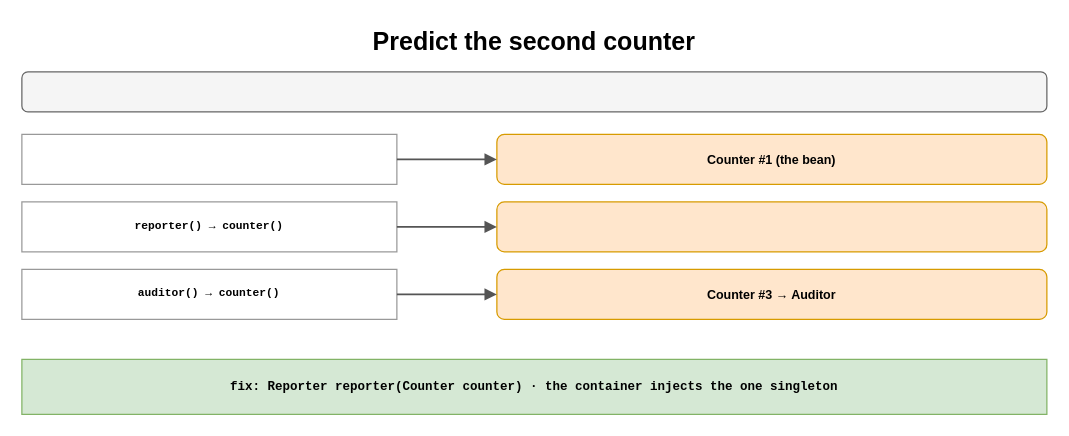
This 1069x436 diagram has some shape labels left out. The shapes that lost their labels are listed below. From the top down, each one's centre as x and y in pixels, then its label:
(x=534, y=91): proxyBeanMethods = false: each direct counter() call creates a new object
(x=209, y=158): @Bean counter()
(x=771, y=226): Counter #2 → Reporter
